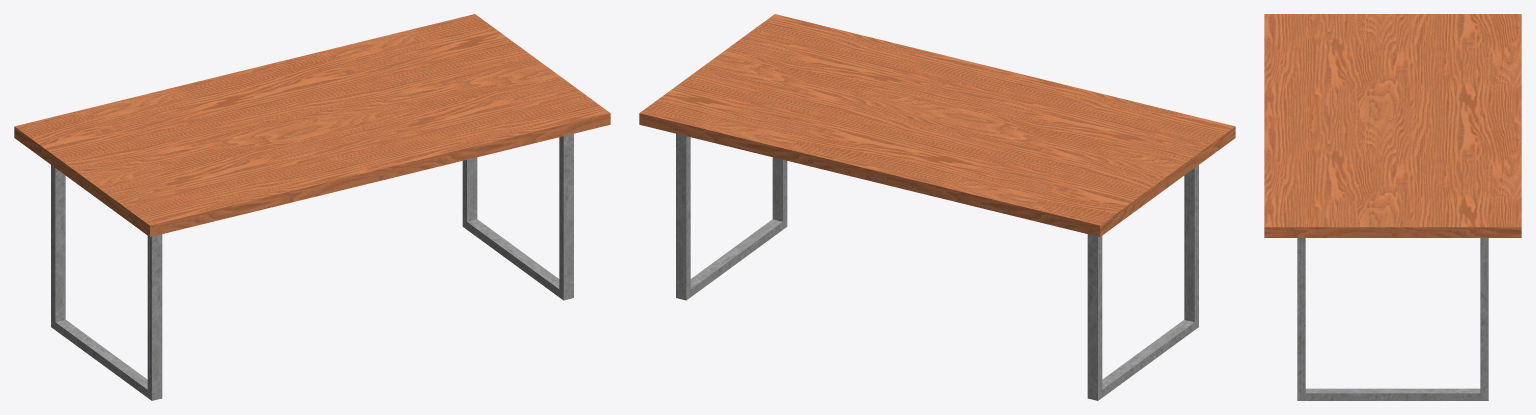
File: Table_07-col.glb
3 views of the same model, side by side, from view 1: azimuth 30°, elevation 25°; view 2: azimuth 150°, elevation 25°; view 3: azimuth 270°, elevation 25° (orthographic). The views are drawn at different scales.
Parts seen in each view (by area): view 1: Table_07-col; view 2: Table_07-col; view 3: Table_07-col.
Part boxes in pixels (x1,y1,x2,y2): Table_07-col: (14, 14, 610, 400); Table_07-col: (639, 14, 1235, 400); Table_07-col: (1264, 14, 1521, 400).
Size of the model in its own units: 2.18 by 0.8717 by 1.11.
2 materials, 2 textured.
